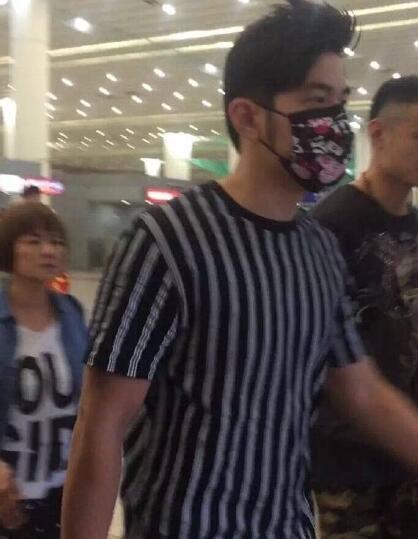NONE: (16, 229, 65, 279)
OK: (252, 78, 358, 184)
